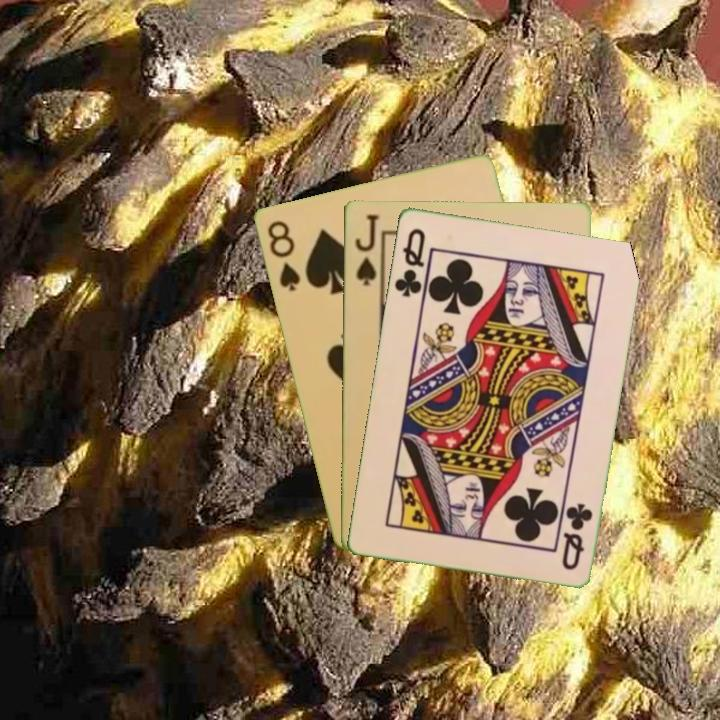8s: (263, 216, 303, 294)
Js: (351, 210, 381, 288)
Qc: (390, 224, 432, 304), (558, 499, 596, 573)
